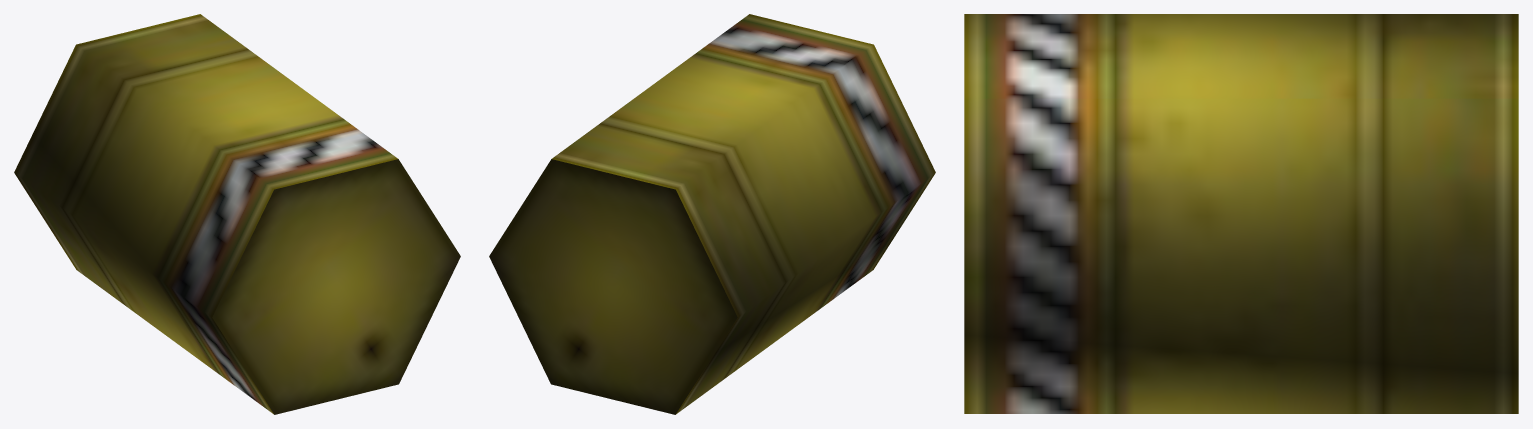
The model's file is gag_tank.glb.
3 views of the same model, side by side, from view 1: azimuth 30°, elevation 25°; view 2: azimuth 150°, elevation 25°; view 3: azimuth 270°, elevation 25° (orthographic). The views are drawn at different scales.
Parts seen in each view (by area): view 1: gagTank1; view 2: gagTank1; view 3: gagTank1.
Boxes of the visible parts, box(x1,y1,x2,y2) form: gagTank1: box(14, 14, 460, 414); gagTank1: box(489, 14, 935, 414); gagTank1: box(964, 14, 1518, 413).
Bounding box in the file's own units: 6 × 5.25 × 8.28.
Materials: 3 (2 with a texture image).
